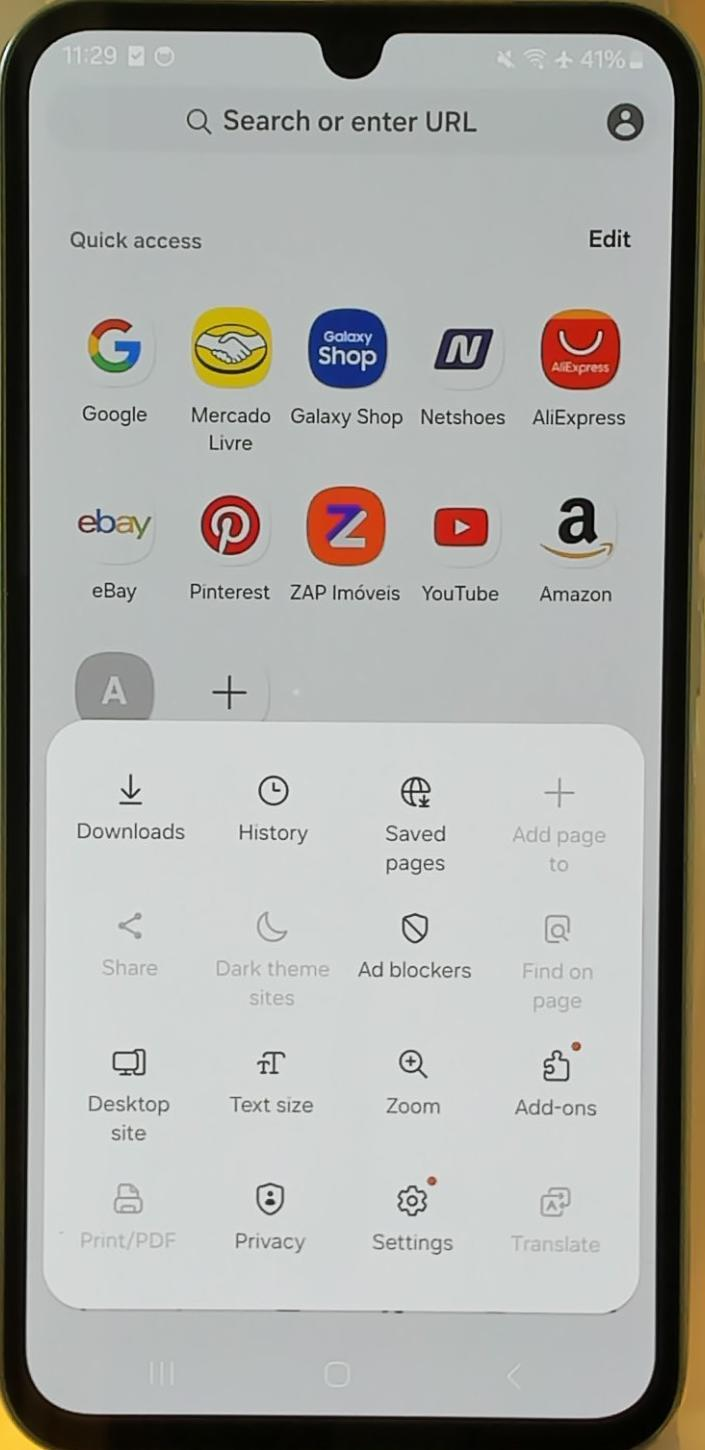CommunBotton: (208, 896, 336, 1018), (66, 754, 192, 856), (510, 760, 620, 872), (506, 1154, 610, 1266), (374, 752, 462, 884), (82, 1040, 180, 1156), (354, 904, 484, 988), (72, 1172, 190, 1260), (362, 1170, 466, 1262), (506, 1032, 606, 1124), (218, 1034, 324, 1120), (228, 758, 318, 854), (228, 1170, 316, 1264), (374, 1038, 454, 1122), (92, 898, 166, 982), (141, 1351, 182, 1394), (317, 1348, 358, 1391), (500, 1348, 531, 1397)
